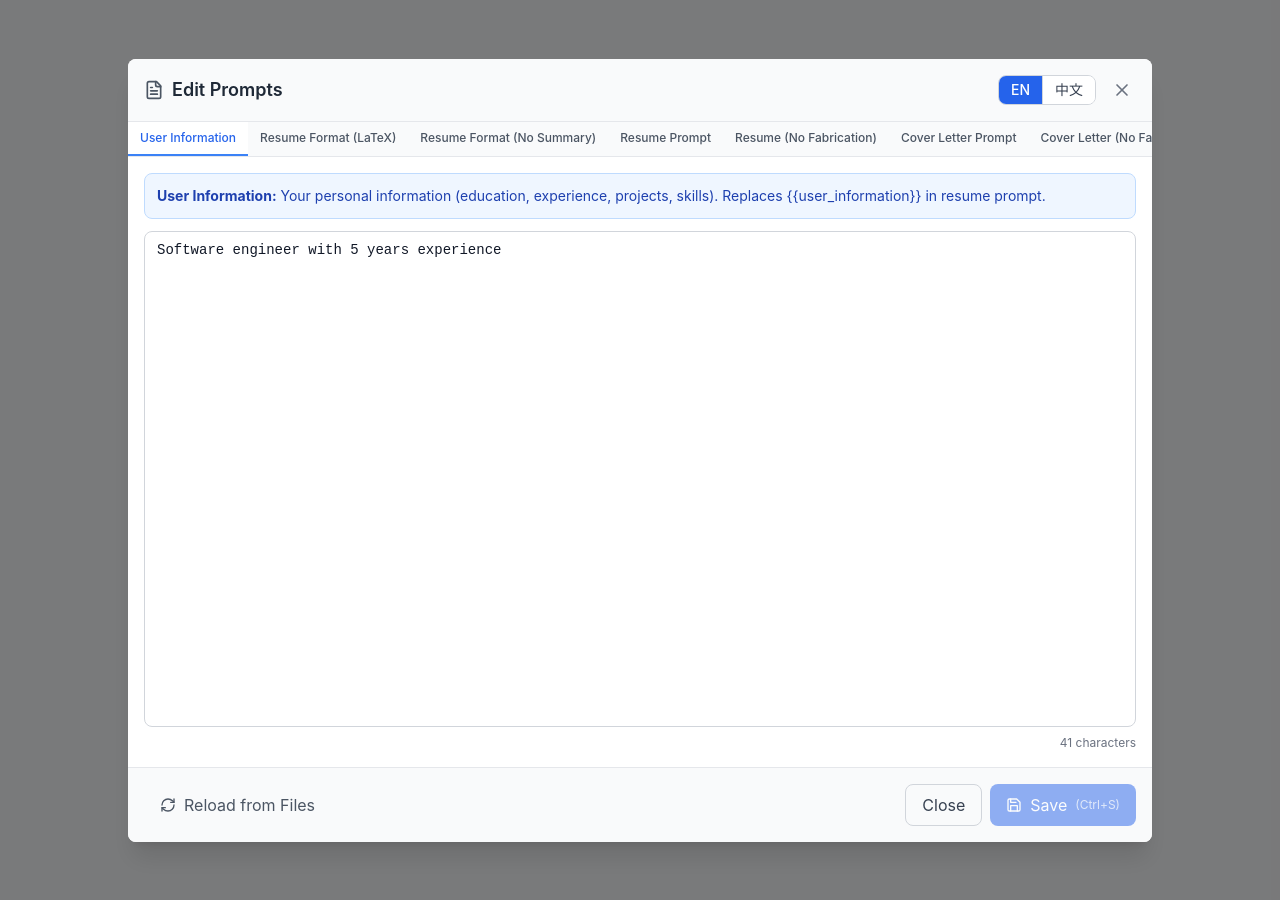
Test: PromptsPanel › navigates to no-fabrication prompt and shows correct content
Expected: the text box is shown, 144,230 -> 1136,726
# Click on "Resume (No Fabrication)" tab
Click the button "Resume (No Fabrication)": (806, 138) 723,122 -> 889,156
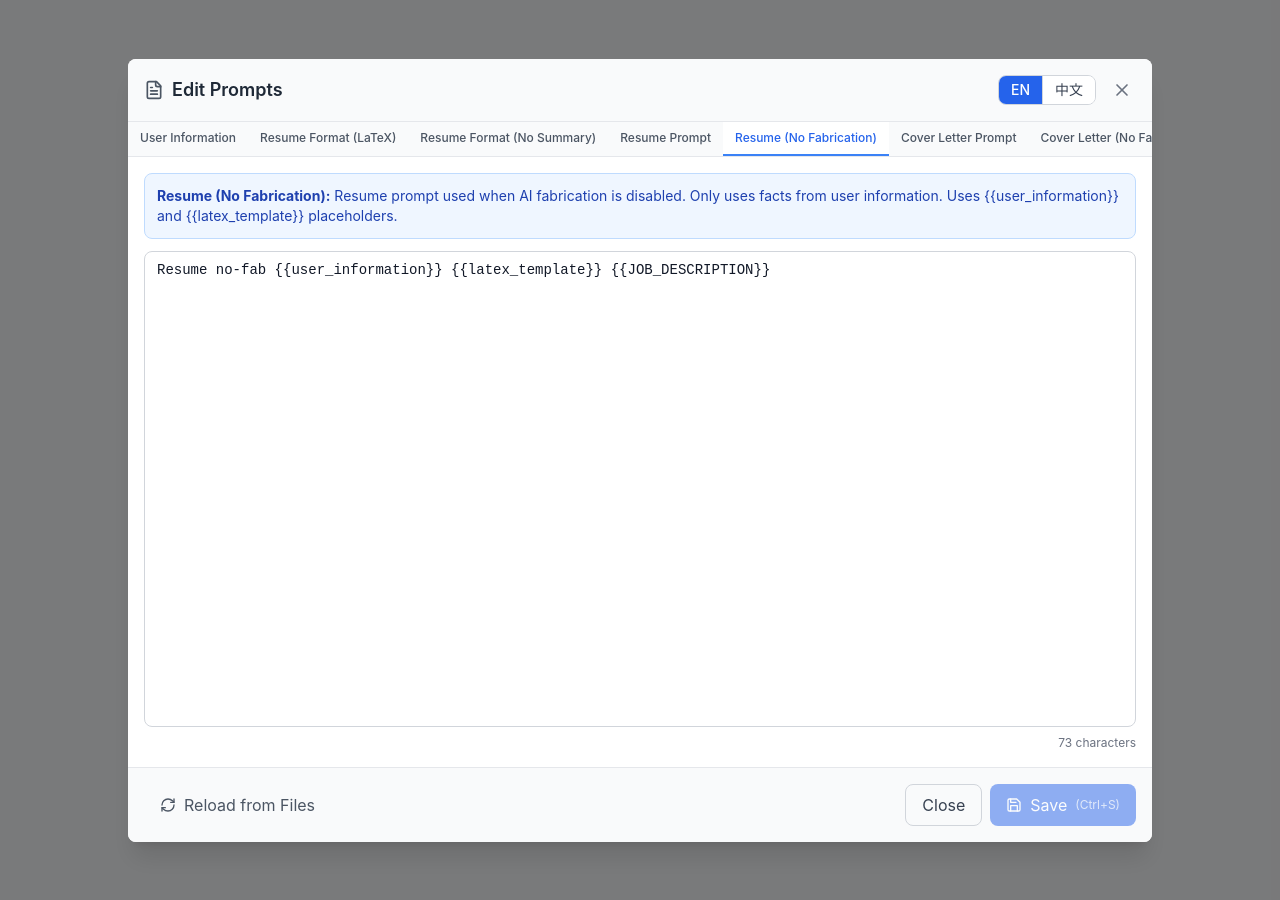
Result: the text box holds "Resume no-fab {{user_information}} {{latex_template}} {{JOB_DESCRIPTION}}" at 144,250 -> 1136,726
